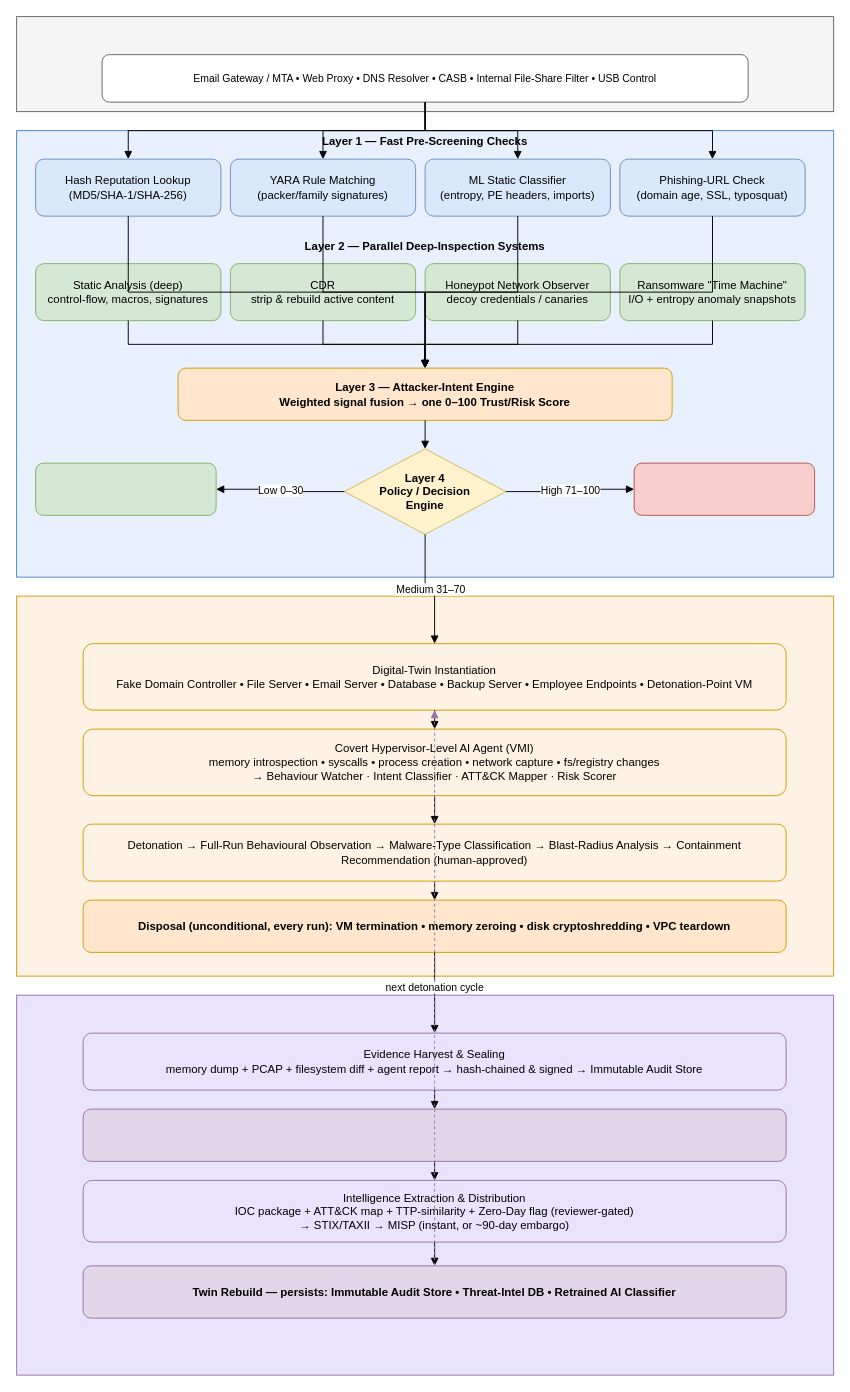
Some shapes in this 850 by 1392 pixel diagram are drawn without their labels. Here are the shapes that lost their labels. From the top down, the box of each, then its label:
(16, 16, 834, 112): STAGE 0 — ENTRY (Network Gateway Chokepoints)
(16, 130, 834, 577): PRE-EXPLOITATION (O-NYX)
(35, 462, 216, 515): PASS Low score (0–30) delivered normally
(633, 462, 815, 515): BLOCK High score (71–100) quarantined, SOC alerted
(16, 595, 834, 976): MID-EXPLOITATION — triggered only by a Medium trust score (O-NYX)
(82, 1108, 786, 1161): Verified Disposal + Signed Disposal Certificate
(16, 994, 834, 1375): POST-EXPLOITATION — TRACE
